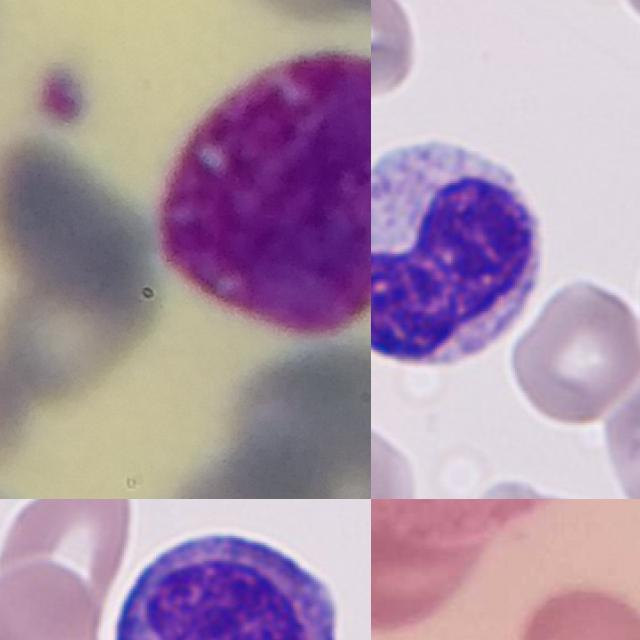Basophil: (157, 48, 371, 341)
Lymphocyte: (371, 124, 552, 382), (101, 513, 350, 640)
Monocyte: (371, 499, 578, 542)
RBC: (506, 271, 640, 428), (0, 499, 140, 640), (0, 552, 111, 640), (596, 366, 640, 499), (371, 0, 424, 106), (468, 479, 640, 499)
